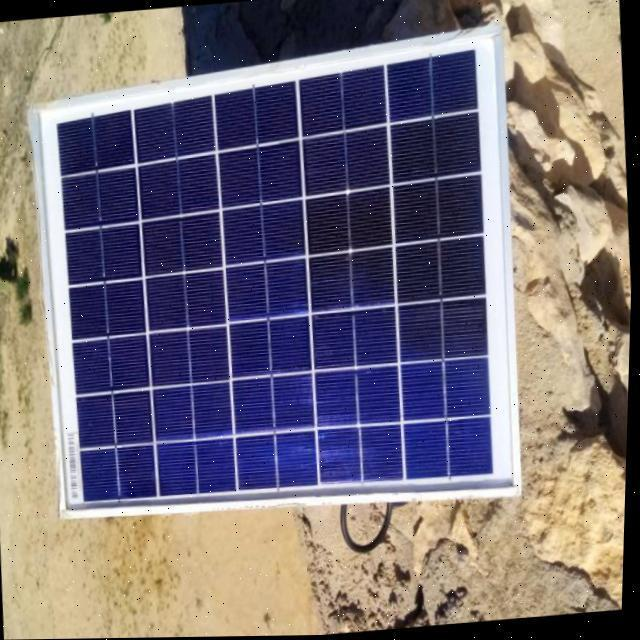Normal Solar Panel: (24, 30, 532, 533)
